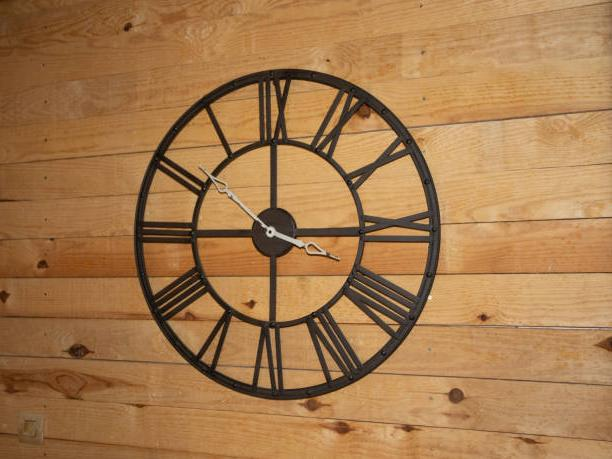clock: (128, 70, 440, 408)
